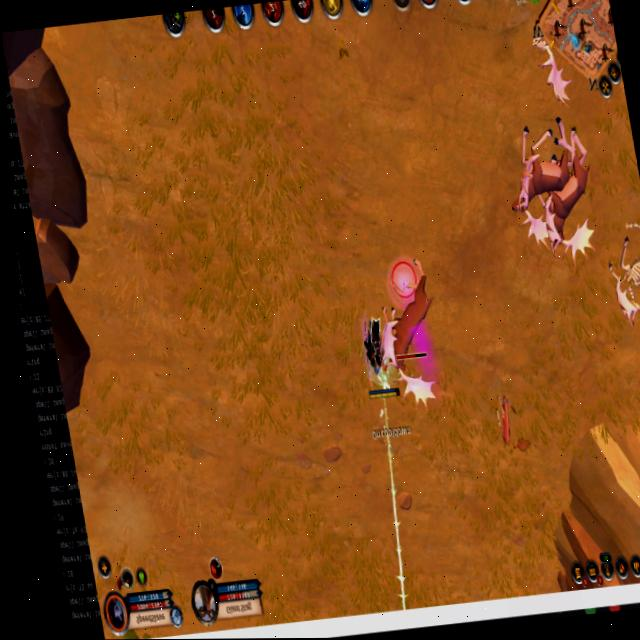mob: (490, 111, 607, 271)
ore: (370, 251, 445, 368), (489, 383, 521, 449)
red: (350, 310, 401, 407)
